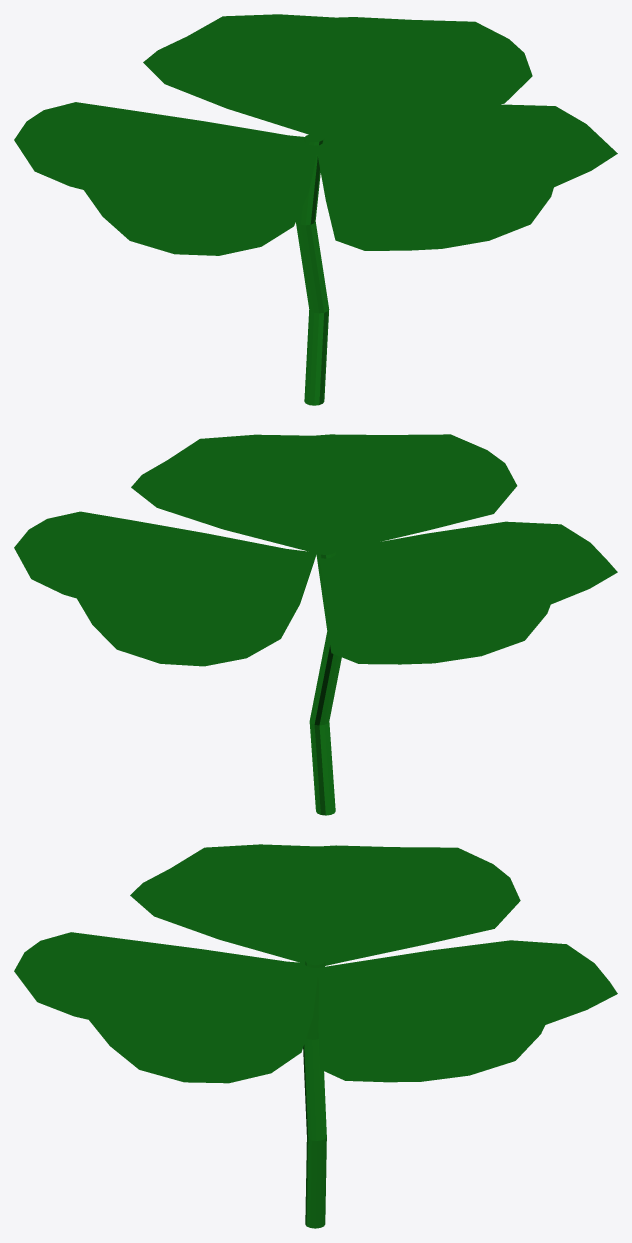
The model's file is clover.obj.
3 renders of one model, top to bottom at view 1: azimuth 30°, elevation 25°; view 2: azimuth 150°, elevation 25°; view 3: azimuth 270°, elevation 25°, orthographic.
Visible parts, largest first — view 1: Cylinder.002; view 2: Cylinder.002; view 3: Cylinder.002.
Part boxes in pixels (left/top/right/bottom): Cylinder.002: left=14, top=14, right=617, bottom=405; Cylinder.002: left=14, top=434, right=617, bottom=815; Cylinder.002: left=14, top=844, right=617, bottom=1228.
Bounding box in the file's own units: 1.9 × 0.992 × 2.04.
